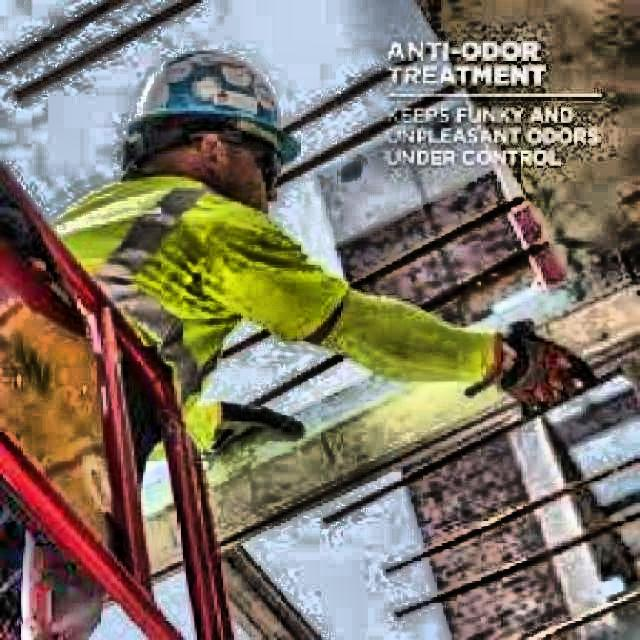safety_jacket: (43, 175, 346, 460)
